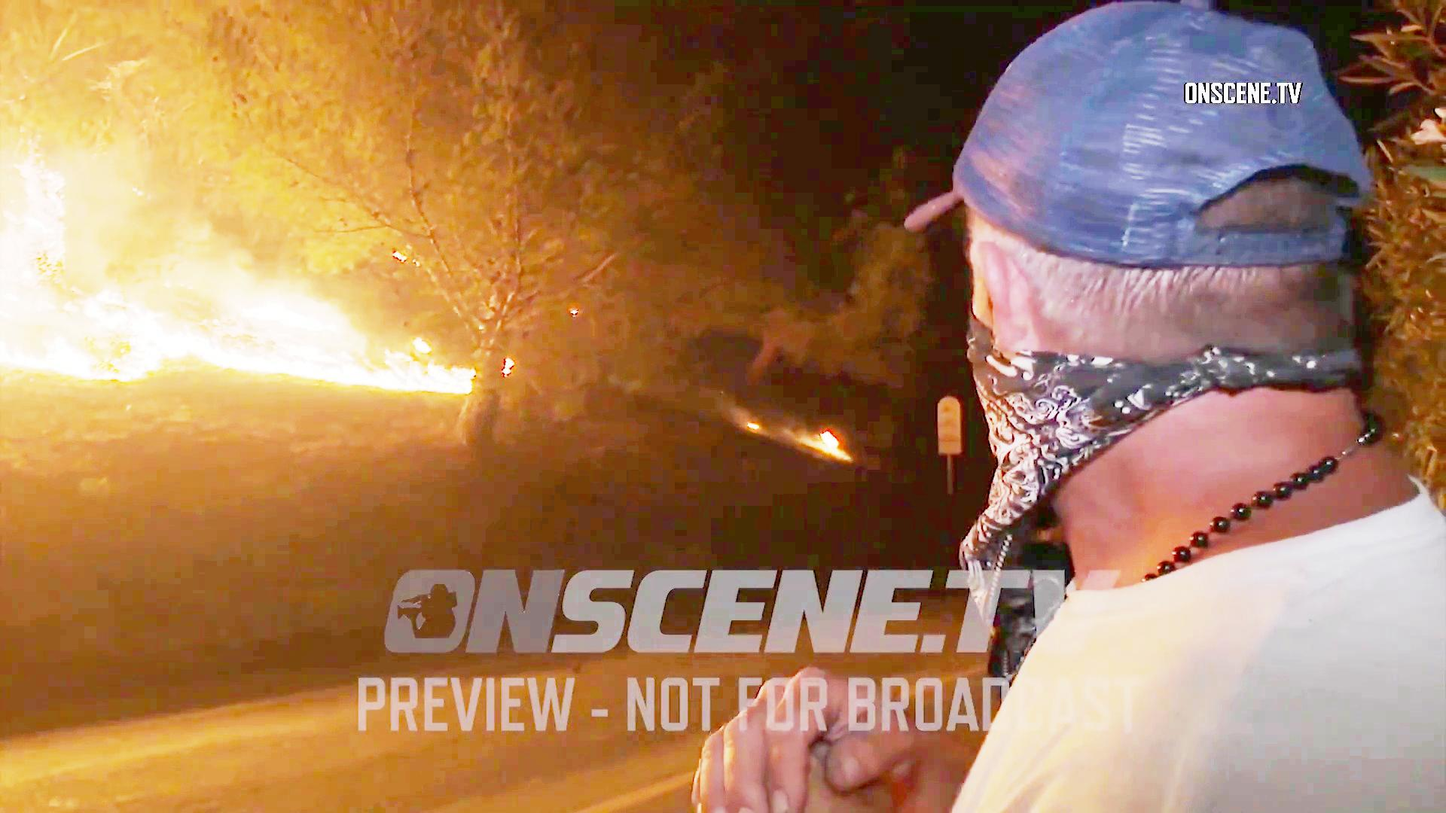fire: (263, 315, 468, 399)
